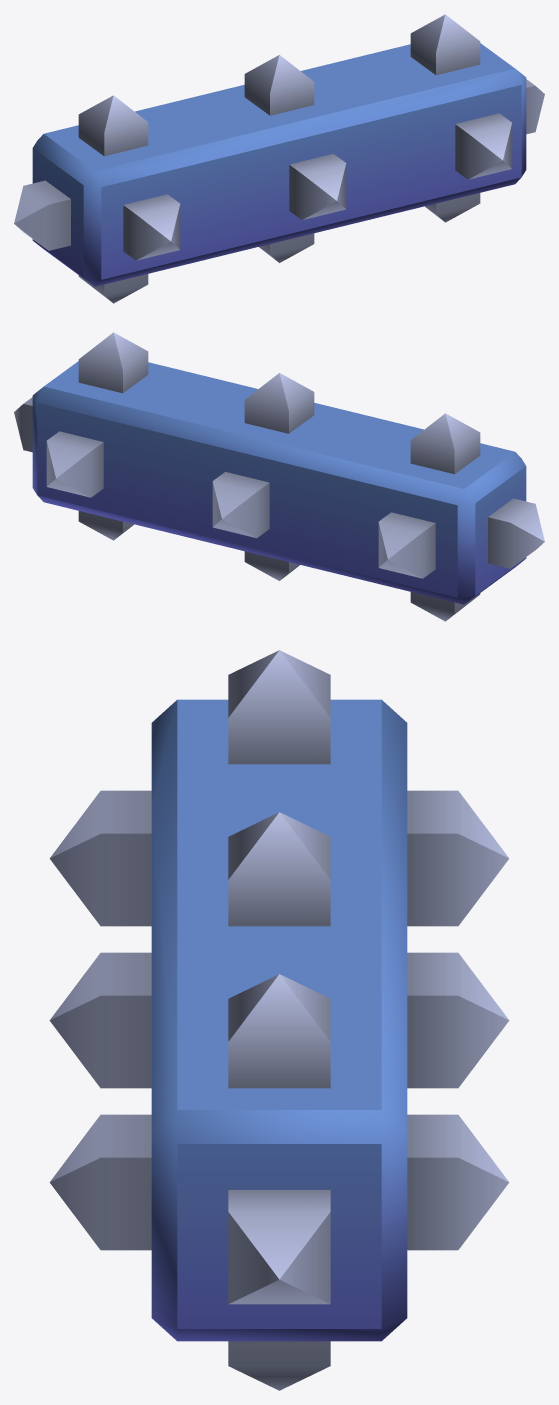
Rendered from kenney-platformer-spike-block-wide.glb.
The picture shows the model from 3 angles, top to bottom: view 1: azimuth 30°, elevation 25°; view 2: azimuth 150°, elevation 25°; view 3: azimuth 270°, elevation 25°; orthographic projection. The views are drawn at different scales.
Visible parts, largest first — view 1: spike-block-wide; view 2: spike-block-wide; view 3: spike-block-wide.
Boxes of the visible parts, left/top/right/bottom form: spike-block-wide: left=14, top=14, right=544, bottom=303; spike-block-wide: left=14, top=332, right=544, bottom=621; spike-block-wide: left=49, top=650, right=509, bottom=1390.
Bounding box in the file's own units: 2.4 × 0.9001 × 0.9001.
Materials: 1 (1 with a texture image).
